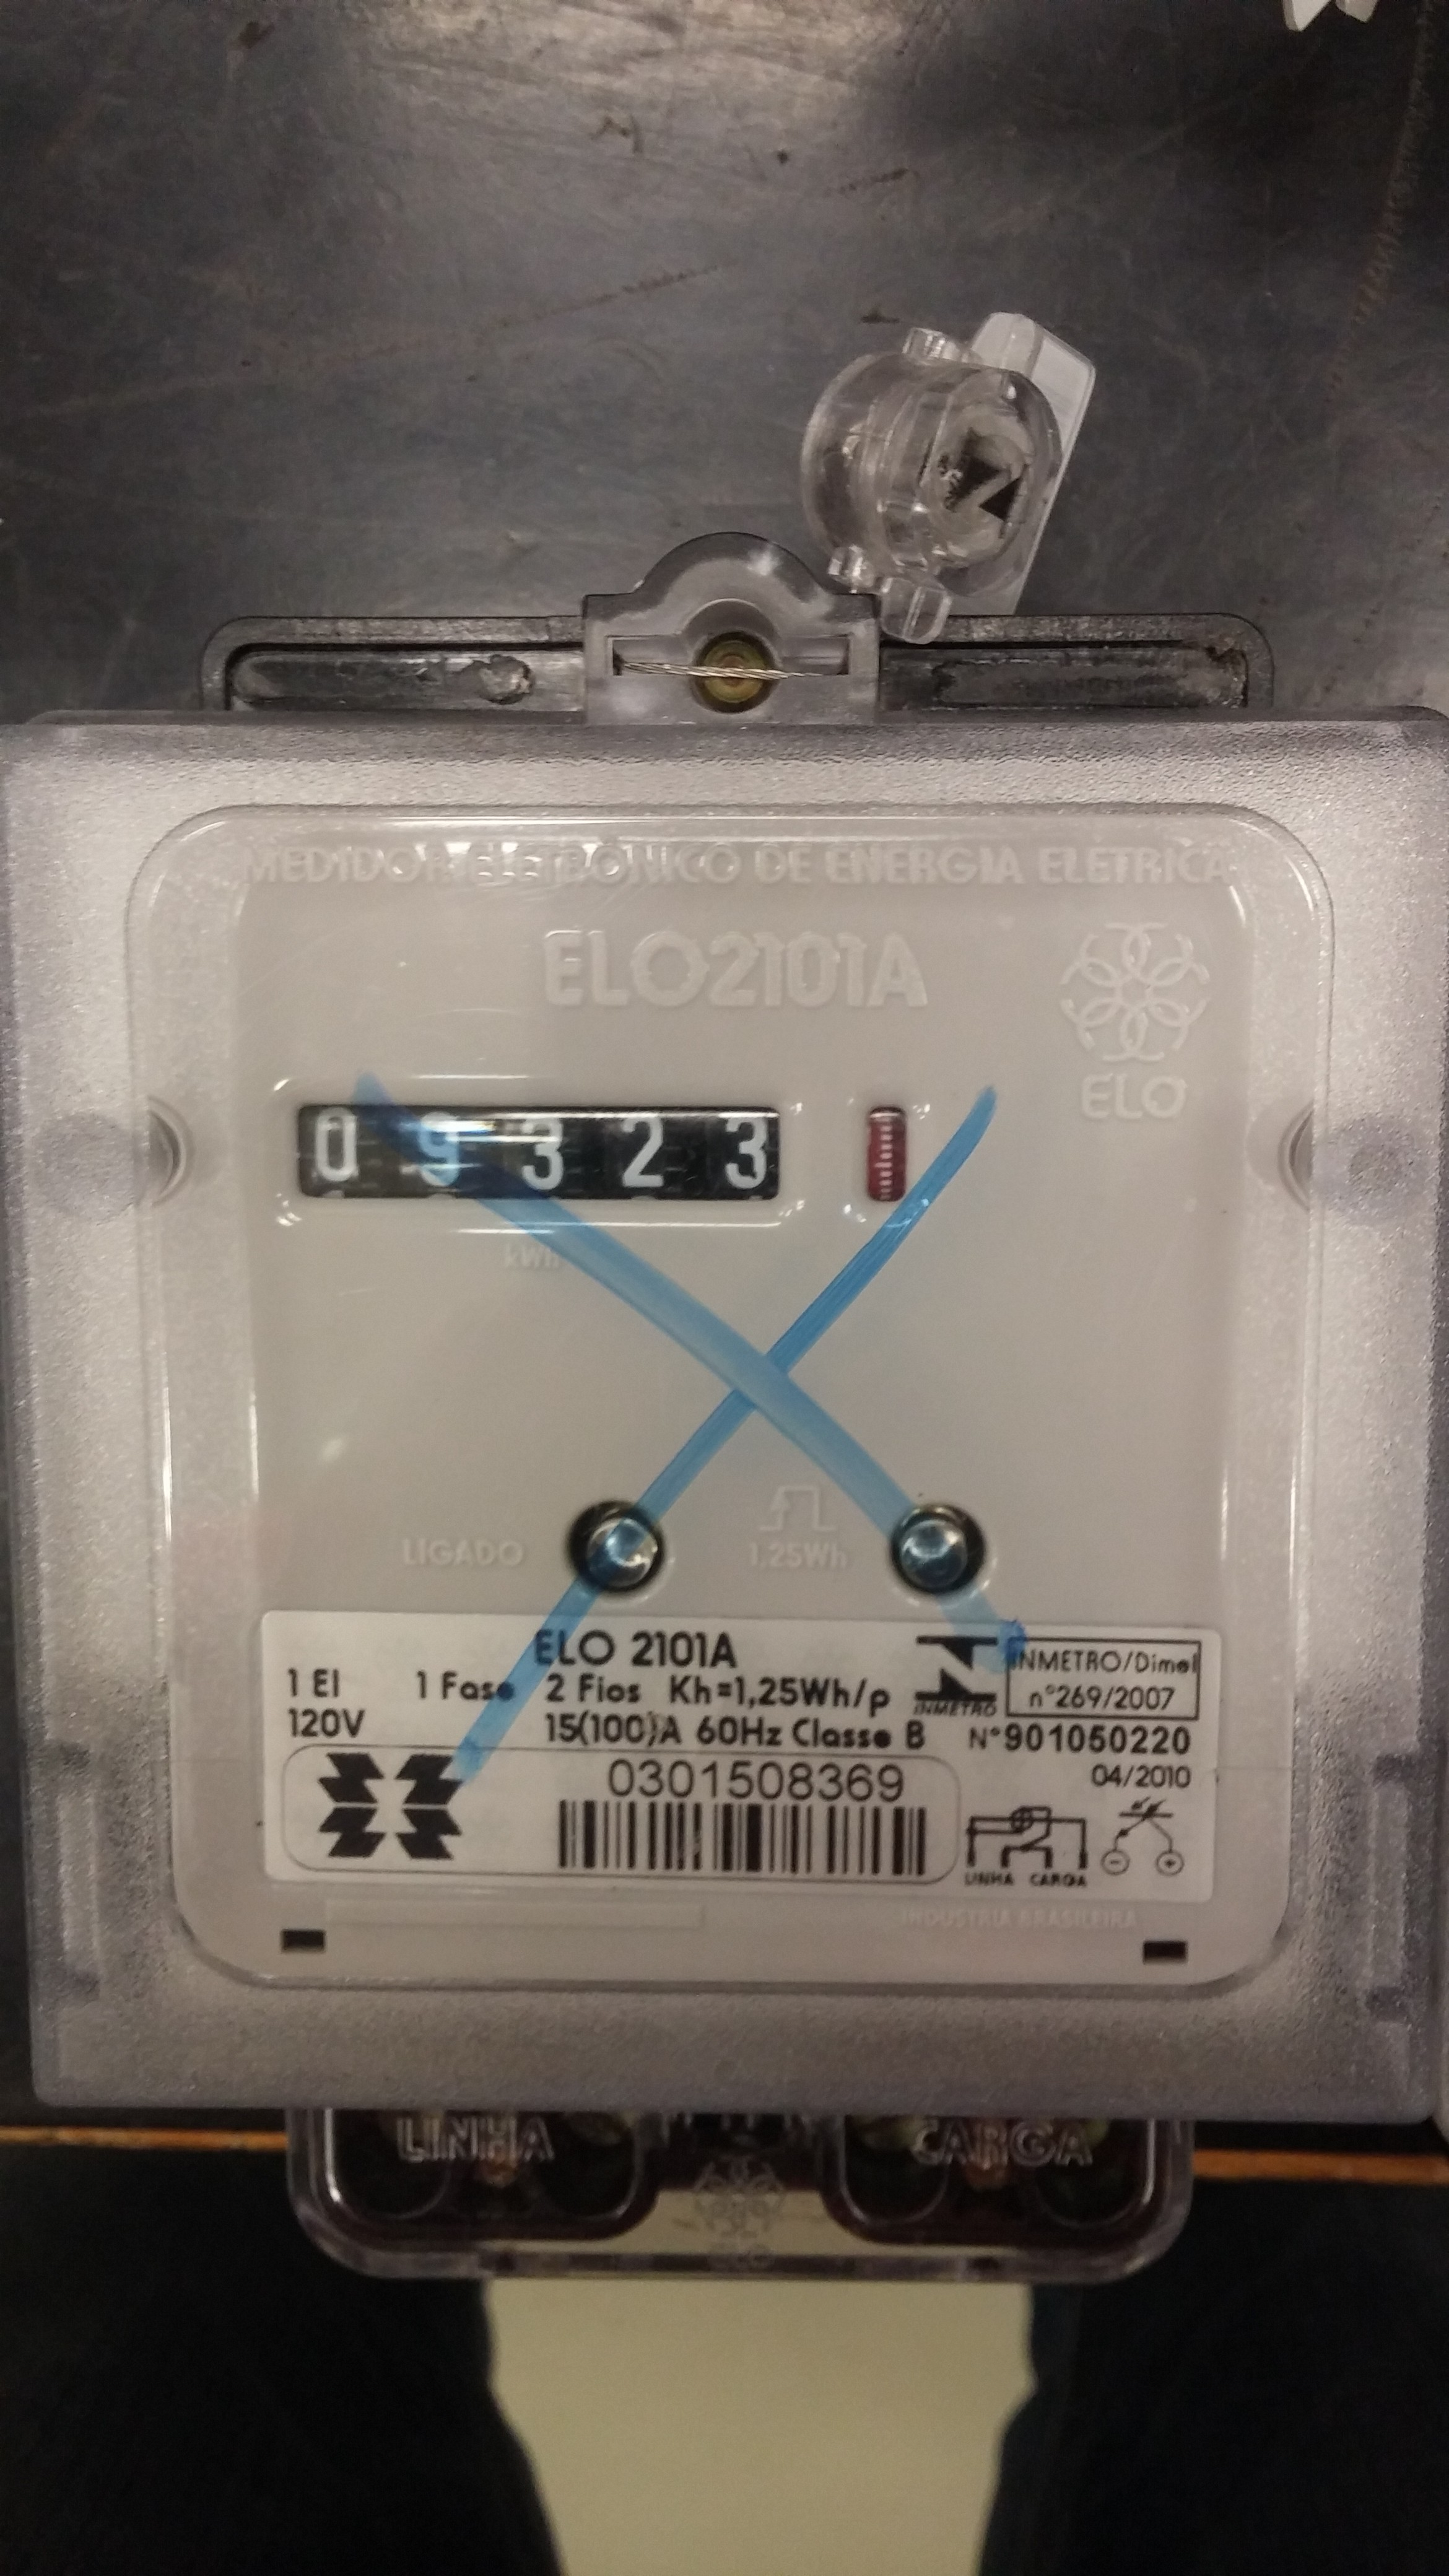counter2: (267, 1083, 816, 1230)
